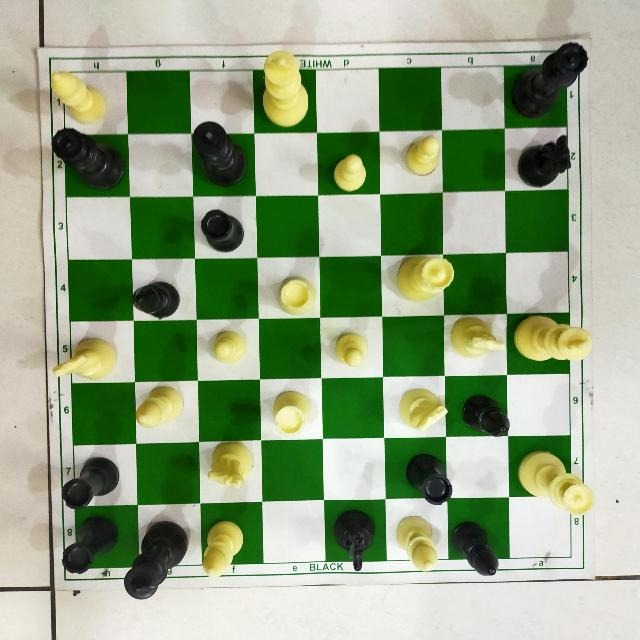black-bishop: (449, 514, 503, 579), (461, 391, 512, 439), (131, 275, 181, 322)
black-king: (123, 516, 190, 601), (182, 119, 251, 185)
black-knight: (331, 507, 379, 573), (518, 133, 572, 191)
black-queen: (509, 37, 589, 120), (46, 126, 129, 198)
black-rook: (60, 515, 121, 580), (60, 456, 122, 512), (404, 451, 454, 506), (197, 204, 246, 253)
white-bishop: (48, 65, 110, 125), (393, 512, 440, 574), (199, 518, 244, 578), (134, 385, 186, 433)
white-king: (514, 308, 596, 378), (258, 48, 314, 128)
white-knight: (52, 336, 118, 384), (448, 315, 506, 365), (397, 384, 449, 433), (204, 439, 254, 489)
white-pawn: (329, 149, 371, 195), (405, 132, 444, 177), (203, 326, 249, 363), (334, 328, 374, 369)
white-queen: (515, 448, 597, 520), (396, 247, 455, 306)
white-rook: (271, 390, 313, 437), (273, 274, 319, 316)
